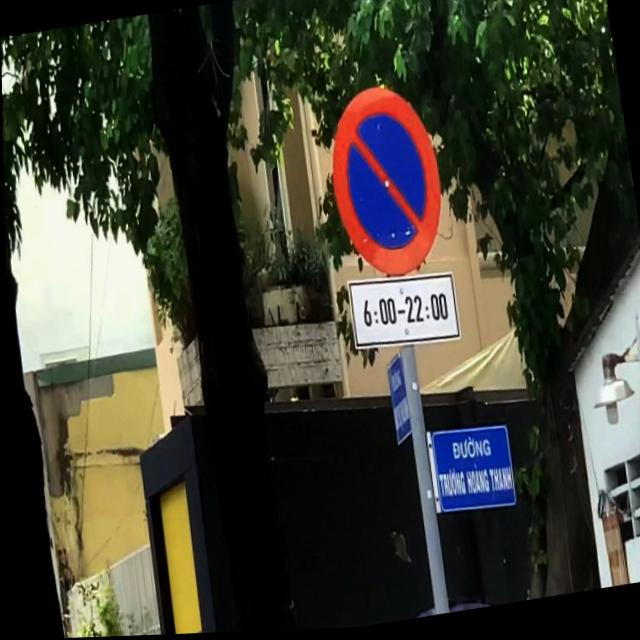Cam do xe: (320, 78, 455, 283)
